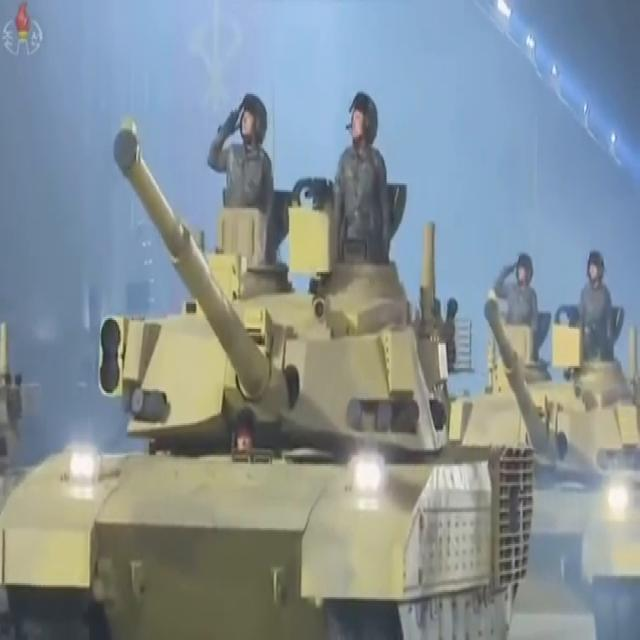north tank: (1, 92, 532, 640), (471, 282, 640, 590)
